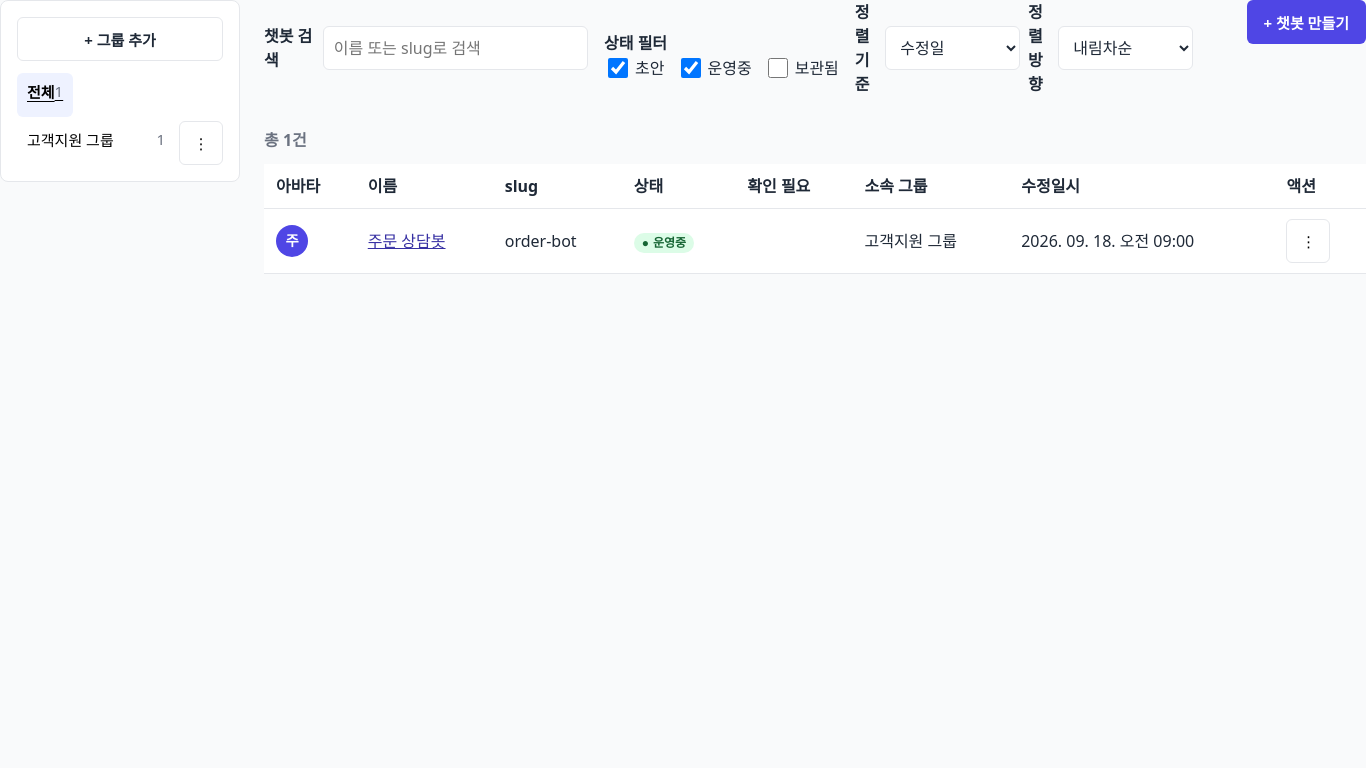
ChatbotListPage — 그룹/챗봇 CRUD 플로우 › EX-1-3: 소속 챗봇이 있는 그룹 삭제는 409로 거부되고 모달 내부 배너로 사유를 안내한다
Check: the button "고객지원 그룹 1" is shown, box [17,121,175,165]
What coordinates should you click on to do the following:
click the button named "고객지원 그룹 그룹 관리"
I would click on:
 (201, 143)
Its box is [179,121,223,165].
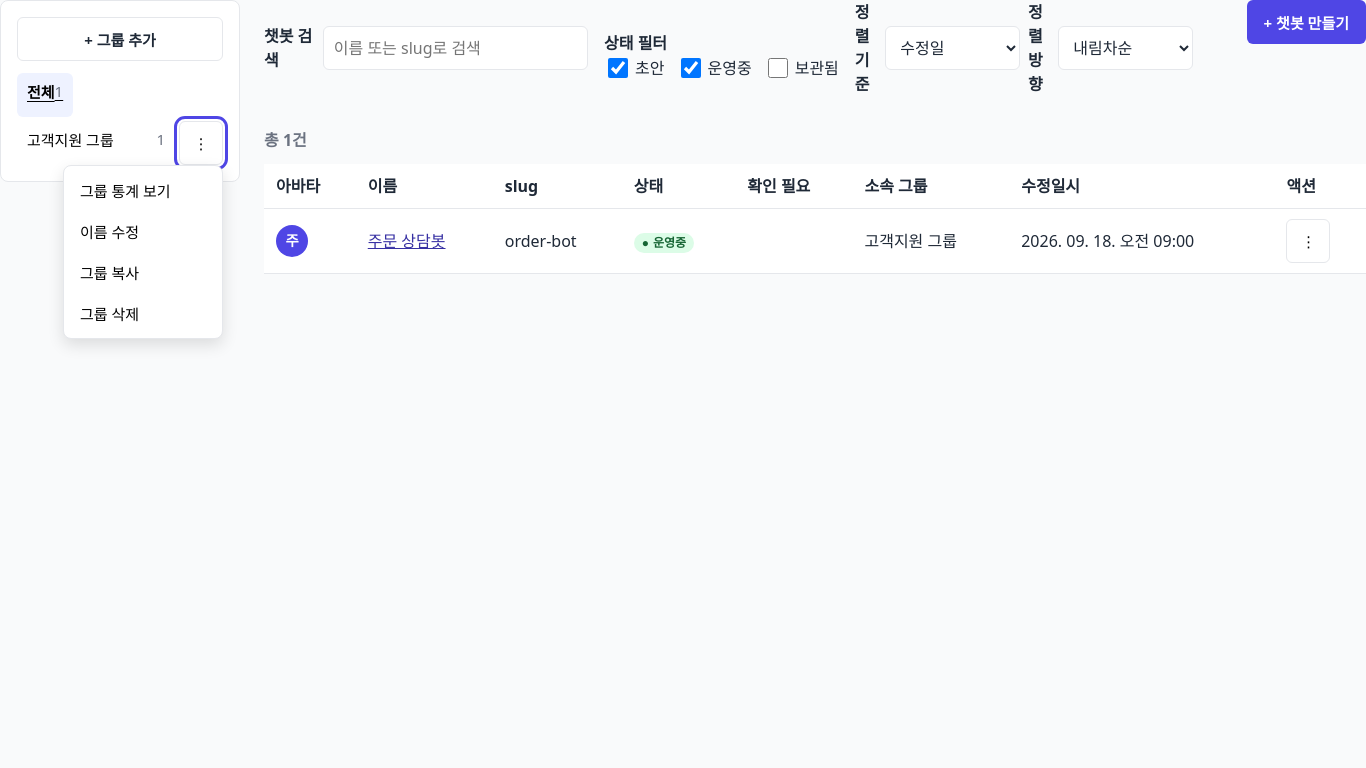
What coordinates should you click on to do the following:
click the menu item "그룹 삭제"
I would click on:
 (143, 314)
Its box is [68,293,218,334].
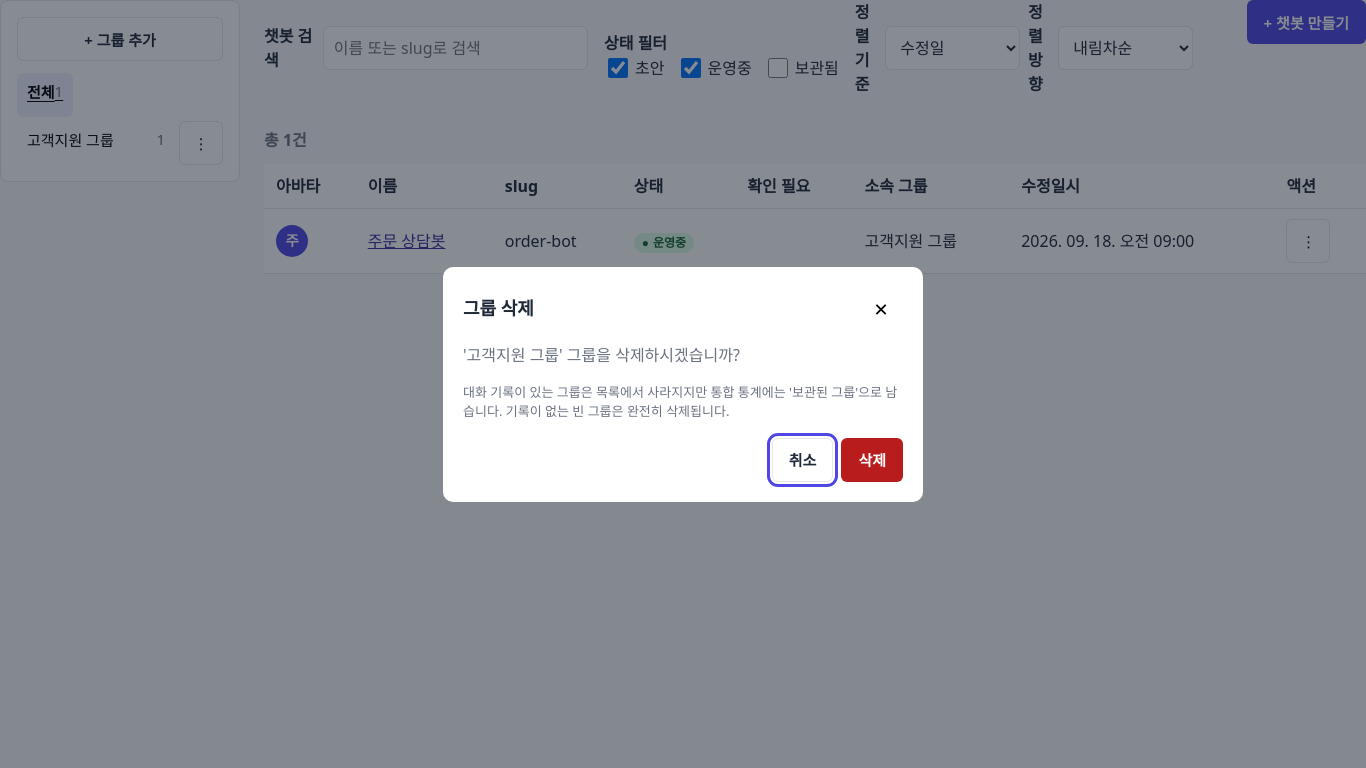
Check: the text "'고객지원 그룹' 그룹을 삭제하시겠습니까?" is shown, box [463,344,740,366]
Check: the text "통합 통계에는 '보관된 그룹'으로 남습니다" is shown, box [463,382,897,420]
What coordinates should you click on to do the following:
click the button "삭제"
I would click on:
 (872, 460)
Its box is [841,438,903,482].
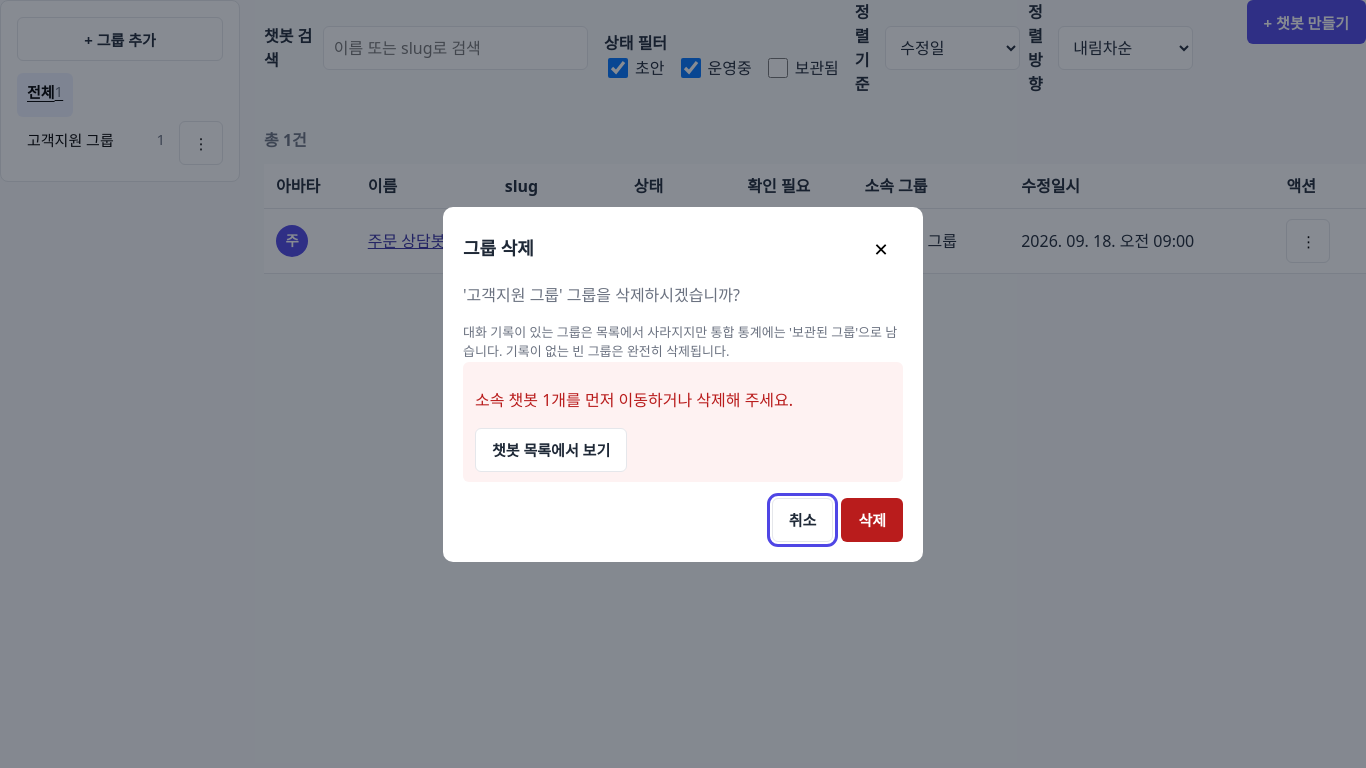
Check: the dialog "그룹 삭제" is shown, box [443,206,923,562]
Check: the text "소속 챗봇 1개를 먼저 이동하거나 삭제해 주세요." is shown, box [475,388,793,410]
